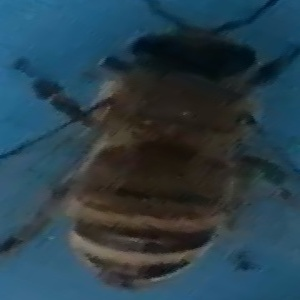bee: (33, 5, 300, 293)
